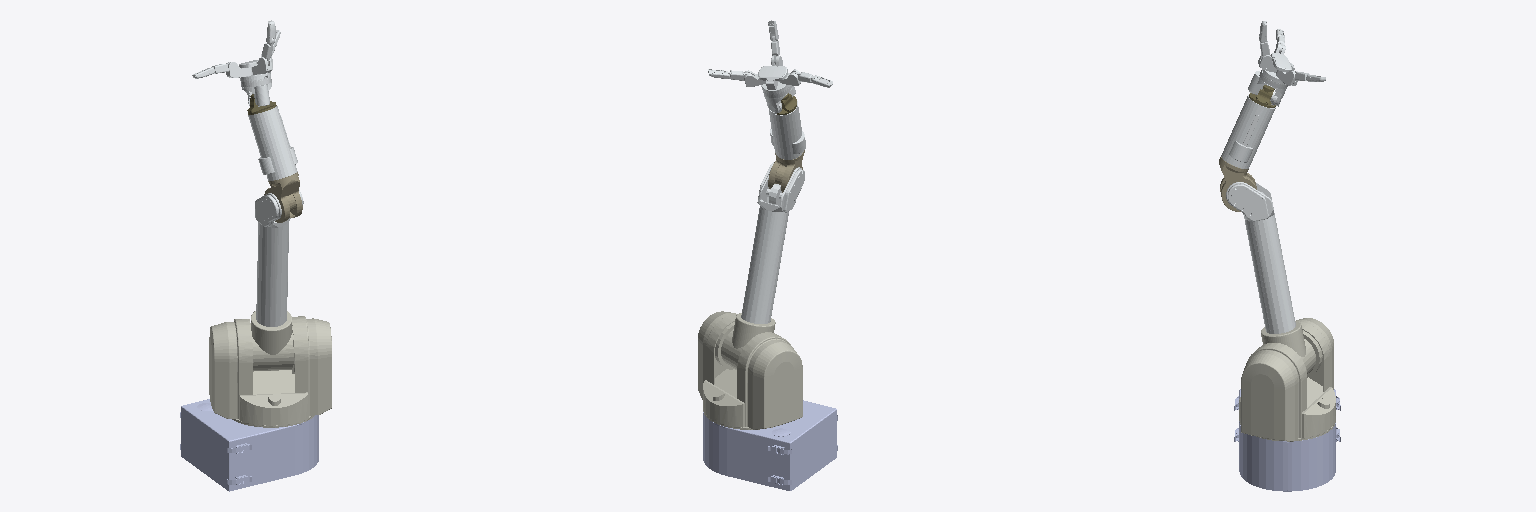
--- Facts derived from the render (not from the file) ---
Views: 3 orthographic renders of the robot side by side, from view 1: azimuth 30°, elevation 25°; view 2: azimuth 150°, elevation 25°; view 3: azimuth 270°, elevation 25°.
Robot: wam16 — 19 links, 18 joints (16 revolute, 2 fixed); root link dummy; default pose: every joint at zero.
Visible links, largest first — view 1: l1, base, l3, l5, l2, l4, hl; view 2: l1, base, l3, l5, l2, hl, l4; view 3: l1, base, l3, l5, l2, l4, hl.
Boxes of the visible links, x1,y1,x2,y2 form: l1: (209,316,331,427); base: (180,399,318,491); l3: (255,190,303,326); l5: (248,106,297,180); l2: (251,311,293,371); l4: (264,172,302,222); hl: (239,57,272,82); l1: (698,311,802,429); base: (703,400,837,490); l3: (741,162,804,323); l5: (769,101,805,159); l2: (721,313,775,369); hl: (758,56,790,94); l4: (768,150,804,192); l1: (1239,318,1335,441); base: (1234,389,1340,491); l3: (1226,182,1295,333); l5: (1221,95,1275,168); l2: (1261,321,1315,373); l4: (1219,157,1256,211); hl: (1258,53,1294,84).
Size in the robot's own frame: 0.4555 by 0.3547 by 1.42 metres.
Meshes: 18 distinct files referenced, 18 mesh visuals loaded (18 binary STL).

URDF robot description (wam16):
<?xml version="1.0" encoding="utf-8"?>
<!-- This URDF was automatically created by SolidWorks to URDF Exporter! Originally created by Stephen Brawner ([email redacted]) 
     Commit Version: 1.6.0-4-g7f85cfe  Build Version: 1.6.7995.38578
     For more information, please see http://wiki.ros.org/sw_urdf_exporter -->
<robot
  name="wam16">
  <link
    name="base">
    <inertial>
      <origin
        xyz="-0.0052221 3.4011E-05 0.073607"
        rpy="0 0 0" />
      <mass
        value="20" />
      <inertia
        ixx="1.0"
        ixy="0.0"
        ixz="0.0"
        iyy="1.0"
        iyz="0"
        izz="1" />
    </inertial>
    <visual>
      <origin
        xyz="0 0 0"
        rpy="0 0 0" />
      <geometry>
        <mesh
          filename="package://wam16/meshes/base.STL" />
      </geometry>
      <material
        name="">
        <color
          rgba="0.79216 0.81961 0.93333 1" />
      </material>
    </visual>
    <collision>
      <origin
        xyz="0 0 0"
        rpy="0 0 0" />
      <geometry>
        <mesh
          filename="package://wam16/meshes/base.STL" />
      </geometry>
    </collision>
  </link>
  <link
    name="l1">
    <inertial>
      <origin
        xyz="2.5396E-08 -0.050252 3.0114E-09"
        rpy="0 0 0" />
      <mass
        value="5.3936" />
      <inertia
        ixx="1.0"
        ixy="0.0"
        ixz="0.0"
        iyy="1.0"
        iyz="0.0"
        izz="1.0" />
    </inertial>
    <visual>
      <origin
        xyz="0 0 0"
        rpy="0 0 0" />
      <geometry>
        <mesh
          filename="package://wam16/meshes/l1.STL" />
      </geometry>
      <material
        name="">
        <color
          rgba="0.79608 0.79608 0.75294 1" />
      </material>
    </visual>
    <collision>
      <origin
        xyz="0 0 0"
        rpy="0 0 0" />
      <geometry>
        <mesh
          filename="package://wam16/meshes/l1.STL" />
      </geometry>
    </collision>
  </link>
  <joint
    name="j1"
    type="revolute">
    <origin
      xyz="0.053536 0 0.31513"
      rpy="1.5708 0 -1.9984" />
    <limit
      lower="-3.1415"
      upper="3.1415"
      effort="10"
      velocity="1000" />
    <parent
      link="base" />
    <child
      link="l1" />
    <axis
      xyz="0 1 0" />
  </joint>
  <link
    name="l2">
    <inertial>
      <origin
        xyz="7.6483E-07 0.05047 2.3994E-06"
        rpy="0 0 0" />
      <mass
        value="2.8487" />
      <inertia
        ixx="1.0"
        ixy="0.0"
        ixz="0.0"
        iyy="0.1"
        iyz="0.0"
        izz="0.1" />
    </inertial>
    <visual>
      <origin
        xyz="0 0 0"
        rpy="0 0 0" />
      <geometry>
        <mesh
          filename="package://wam16/meshes/l2.STL" />
      </geometry>
      <material
        name="">
        <color
          rgba="0.79608 0.79608 0.75294 1" />
      </material>
    </visual>
    <collision>
      <origin
        xyz="0 0 0"
        rpy="0 0 0" />
      <geometry>
        <mesh
          filename="package://wam16/meshes/l2.STL" />
      </geometry>
    </collision>
  </link>
  <joint
    name="j2"
    type="revolute">
    <origin
      xyz="0 0.030866 0"
      rpy="0.19573 1.5708 0" />
    <limit
      lower="-1.5707"
      upper="1.5707"
      effort="10"
      velocity="1000" />
    <parent
      link="l1" />
    <child
      link="l2" />
    <axis
      xyz="1 0 0" />
  </joint>
  <link
    name="l3">
    <inertial>
      <origin
        xyz="9.0662E-06 0.44771 -0.013087"
        rpy="0 0 0" />
      <mass
        value="0.07251" />
      <inertia
        ixx="1.0"
        ixy="0.0"
        ixz="0.0"
        iyy="0.1"
        iyz="0.0"
        izz="0.1" />
    </inertial>
    <visual>
      <origin
        xyz="0 0 0"
        rpy="0 0 0" />
      <geometry>
        <mesh
          filename="package://wam16/meshes/l3.STL" />
      </geometry>
      <material
        name="">
        <color
          rgba="0.89804 0.91765 0.92941 1" />
      </material>
    </visual>
    <collision>
      <origin
        xyz="0 0 0"
        rpy="0 0 0" />
      <geometry>
        <mesh
          filename="package://wam16/meshes/l3.STL" />
      </geometry>
    </collision>
  </link>
  <joint
    name="j3"
    type="revolute">
    <origin
      xyz="0 0 0"
      rpy="3.1416 -0.50269 3.1416" />
    <limit
      lower="-3.1415"
      upper="3.1415"
      effort="10"
      velocity="1000" />
    <parent
      link="l2" />
    <child
      link="l3" />
    <axis
      xyz="0 1 0" />
  </joint>
  <link
    name="l4">
    <inertial>
      <origin
        xyz="-0.00049544 0.033113 0.039955"
        rpy="0 0 0" />
      <mass
        value="0.0625" />
      <inertia
        ixx="1.0"
        ixy="0.0"
        ixz="0.0"
        iyy="0.1"
        iyz="0.0"
        izz="0.1" />
    </inertial>
    <visual>
      <origin
        xyz="0 0 0"
        rpy="0 0 0" />
      <geometry>
        <mesh
          filename="package://wam16/meshes/l4.STL" />
      </geometry>
      <material
        name="">
        <color
          rgba="0.66667 0.63922 0.55686 1" />
      </material>
    </visual>
    <collision>
      <origin
        xyz="0 0 0"
        rpy="0 0 0" />
      <geometry>
        <mesh
          filename="package://wam16/meshes/l4.STL" />
      </geometry>
    </collision>
  </link>
  <joint
    name="j4"
    type="revolute">
    <origin
      xyz="0 0.549 -0.045"
      rpy="-0.99221 0 0" />
    <limit
      lower="-3.1415"
      upper="3.1415"
      effort="10"
      velocity="1000" />
    <parent
      link="l3" />
    <child
      link="l4" />
    <axis
      xyz="1 0 0" />
  </joint>
  <link
    name="l5">
    <inertial>
      <origin
        xyz="-0.00015626 0.098469 1.1003E-12"
        rpy="0 0 0" />
      <mass
        value="0.0275" />
      <inertia
        ixx="1.0"
        ixy="0.0"
        ixz="0.0"
        iyy="0.0"
        iyz="0.0"
        izz="0.1" />
    </inertial>
    <visual>
      <origin
        xyz="0 0 0"
        rpy="0 0 0" />
      <geometry>
        <mesh
          filename="package://wam16/meshes/l5.STL" />
      </geometry>
      <material
        name="">
        <color
          rgba="0.89804 0.91765 0.92941 1" />
      </material>
    </visual>
    <collision>
      <origin
        xyz="0 0 0"
        rpy="0 0 0" />
      <geometry>
        <mesh
          filename="package://wam16/meshes/l5.STL" />
      </geometry>
    </collision>
  </link>
  <joint
    name="j5"
    type="fixed">
    <origin
      xyz="-0.000504 0.045 0.073"
      rpy="1.5708 0 -0.075888" />
    <parent
      link="l4" />
    <child
      link="l5" />
    <axis
      xyz="0 0 0" />
  </joint>
  <link
    name="l6">
    <inertial>
      <origin
        xyz="-6.5399E-10 0.066029 -1.8112E-08"
        rpy="0 0 0" />
      <mass
        value="0.01067" />
      <inertia
        ixx="1.0"
        ixy="0.0"
        ixz="0.0"
        iyy="0.1"
        iyz="0.0"
        izz="0.1" />
    </inertial>
    <visual>
      <origin
        xyz="0 0 0"
        rpy="0 0 0" />
      <geometry>
        <mesh
          filename="package://wam16/meshes/l6.STL" />
      </geometry>
      <material
        name="">
        <color
          rgba="0.47843 0.4549 0.3451 1" />
      </material>
    </visual>
    <collision>
      <origin
        xyz="0 0 0"
        rpy="0 0 0" />
      <geometry>
        <mesh
          filename="package://wam16/meshes/l6.STL" />
      </geometry>
    </collision>
  </link>
  <joint
    name="j6"
    type="revolute">
    <origin
      xyz="0 0.15853 0"
      rpy="-3.1416 -1.4381 3.1416" />
    <limit
      lower="-3.1415"
      upper="3.1415"
      effort="10"
      velocity="1000" />
    <parent
      link="l5" />
    <child
      link="l6" />
    <axis
      xyz="0 1 0" />
  </joint>
  <link
    name="l7">
    <inertial>
      <origin
        xyz="-0.001685 0.024237 1.4442E-07"
        rpy="0 0 0" />
      <mass
        value="0.009278" />
      <inertia
        ixx="1.0"
        ixy="0.0"
        ixz="0.0"
        iyy="0.1"
        iyz="0.0"
        izz="0.1" />
    </inertial>
    <visual>
      <origin
        xyz="0 0 0"
        rpy="0 0 0" />
      <geometry>
        <mesh
          filename="package://wam16/meshes/l7.STL" />
      </geometry>
      <material
        name="">
        <color
          rgba="0.89804 0.91765 0.92941 1" />
      </material>
    </visual>
    <collision>
      <origin
        xyz="0 0 0"
        rpy="0 0 0" />
      <geometry>
        <mesh
          filename="package://wam16/meshes/l7.STL" />
      </geometry>
    </collision>
  </link>
  <joint
    name="h7"
    type="revolute">
    <origin
      xyz="0 0.074477 0"
      rpy="0.15275 0 0" />
    <limit
      lower="-3.1415"
      upper="3.1415"
      effort="10"
      velocity="1000" />
    <parent
      link="l6" />
    <child
      link="l7" />
    <axis
      xyz="1 0 0" />
  </joint>
  <link
    name="l8">
    <inertial>
      <origin
        xyz="7.7716E-16 0.071443 -4.4409E-16"
        rpy="0 0 0" />
      <mass
        value="0.002557" />
      <inertia
        ixx="1.0"
        ixy="0.0"
        ixz="0.0"
        iyy="0.1"
        iyz="0.0"
        izz="0.1" />
    </inertial>
    <visual>
      <origin
        xyz="0 0 0"
        rpy="0 0 0" />
      <geometry>
        <mesh
          filename="package://wam16/meshes/l8.STL" />
      </geometry>
      <material
        name="">
        <color
          rgba="0.83137 0.84706 0.85882 1" />
      </material>
    </visual>
    <collision>
      <origin
        xyz="0 0 0"
        rpy="0 0 0" />
      <geometry>
        <mesh
          filename="package://wam16/meshes/l8.STL" />
      </geometry>
    </collision>
  </link>
  <joint
    name="j8"
    type="revolute">
    <origin
      xyz="0.00603 -0.014156 0"
      rpy="0 -0.17166 0" />
    <limit
      lower="-3.1415"
      upper="3.1415"
      effort="10"
      velocity="1000" />
    <parent
      link="l7" />
    <child
      link="l8" />
    <axis
      xyz="0 1 0" />
  </joint>
  <link
    name="hl">
    <inertial>
      <origin
        xyz="-2.5543E-05 0.0036866 -0.097192"
        rpy="0 0 0" />
      <mass
        value="0.001" />
      <inertia
        ixx="1.0"
        ixy="0.0"
        ixz="0.0"
        iyy="0.1"
        iyz="0.0"
        izz="0.1" />
    </inertial>
    <visual>
      <origin
        xyz="0 0 0"
        rpy="0 0 0" />
      <geometry>
        <mesh
          filename="package://wam16/meshes/hl.STL" />
      </geometry>
      <material
        name="">
        <color
          rgba="0.89804 0.91765 0.92941 1" />
      </material>
    </visual>
    <collision>
      <origin
        xyz="0 0 0"
        rpy="0 0 0" />
      <geometry>
        <mesh
          filename="package://wam16/meshes/hl.STL" />
      </geometry>
    </collision>
  </link>
  <joint
    name="hj"
    type="revolute">
    <origin
      xyz="0 0 0"
      rpy="1.5708 -0.96236 0" />
    <limit
      lower="-3.1415"
      upper="3.1415"
      effort="10"
      velocity="1000" />
    <parent
      link="l8" />
    <child
      link="hl" />
    <axis
      xyz="0 0 1" />
  </joint>
  <link
    name="hl11">
    <inertial>
      <origin
        xyz="-0.00074339 0.00064242 -0.030974"
        rpy="0 0 0" />
      <mass
        value="0.005" />
      <inertia
        ixx="1.0"
        ixy="0.0"
        ixz="0.0"
        iyy="0.1"
        iyz="0.0"
        izz="0.1" />
    </inertial>
    <visual>
      <origin
        xyz="0 0 0"
        rpy="0 0 0" />
      <geometry>
        <mesh
          filename="package://wam16/meshes/hl11.STL" />
      </geometry>
      <material
        name="">
        <color
          rgba="0.89804 0.91765 0.92941 1" />
      </material>
    </visual>
    <collision>
      <origin
        xyz="0 0 0"
        rpy="0 0 0" />
      <geometry>
        <mesh
          filename="package://wam16/meshes/hl11.STL" />
      </geometry>
    </collision>
  </link>
  <joint
    name="hj11"
    type="revolute">
    <origin
      xyz="0 0.05 -0.12751"
      rpy="-0.5438 0 -3.1416" />
    <limit
      lower="-3.1415"
      upper="3.1415"
      effort="10"
      velocity="10" />
    <parent
      link="hl" />
    <child
      link="hl11" />
    <axis
      xyz="1 0 0" />
  </joint>
  <link
    name="hl12">
    <inertial>
      <origin
        xyz="0.0024529 -0.0016711 0.025332"
        rpy="0 0 0" />
      <mass
        value="0.005" />
      <inertia
        ixx="1.0"
        ixy="0.0"
        ixz="0.0"
        iyy="0.1"
        iyz="0.0"
        izz="0.1" />
    </inertial>
    <visual>
      <origin
        xyz="0 0 0"
        rpy="0 0 0" />
      <geometry>
        <mesh
          filename="package://wam16/meshes/hl12.STL" />
      </geometry>
      <material
        name="">
        <color
          rgba="0.89804 0.91765 0.92941 1" />
      </material>
    </visual>
    <collision>
      <origin
        xyz="0 0 0"
        rpy="0 0 0" />
      <geometry>
        <mesh
          filename="package://wam16/meshes/hl12.STL" />
      </geometry>
    </collision>
  </link>
  <joint
    name="hj12"
    type="revolute">
    <origin
      xyz="0 0 -0.07"
      rpy="2.846 0 3.1416" />
    <limit
      lower="-3.1415"
      upper="3.1415"
      effort="10"
      velocity="10" />
    <parent
      link="hl11" />
    <child
      link="hl12" />
    <axis
      xyz="1 0 0" />
  </joint>
  <link
    name="hl21">
    <inertial>
      <origin
        xyz="9.984E-05 0.063527 -0.028865"
        rpy="0 0 0" />
      <mass
        value="0.005" />
      <inertia
        ixx="1.0"
        ixy="0.0"
        ixz="0.0"
        iyy="0.1"
        iyz="0.0"
        izz="0.1" />
    </inertial>
    <visual>
      <origin
        xyz="0 0 0"
        rpy="0 0 0" />
      <geometry>
        <mesh
          filename="package://wam16/meshes/hl21.STL" />
      </geometry>
      <material
        name="">
        <color
          rgba="0.89804 0.91765 0.92941 1" />
      </material>
    </visual>
    <collision>
      <origin
        xyz="0 0 0"
        rpy="0 0 0" />
      <geometry>
        <mesh
          filename="package://wam16/meshes/hl21.STL" />
      </geometry>
    </collision>
  </link>
  <joint
    name="hj21"
    type="revolute">
    <origin
      xyz="0.025 0 -0.047204"
      rpy="-1.5708 0 1.1509" />
    <limit
      lower="-3.1415"
      upper="3.1415"
      effort="10"
      velocity="10" />
    <parent
      link="hl" />
    <child
      link="hl21" />
    <axis
      xyz="0 1 0" />
  </joint>
  <link
    name="hl22">
    <inertial>
      <origin
        xyz="-0.0012934 0.00064243 -0.030974"
        rpy="0 0 0" />
      <mass
        value="0.005" />
      <inertia
        ixx="1.0"
        ixy="0.0"
        ixz="0.0"
        iyy="0.1"
        iyz="0.0"
        izz="0.1" />
    </inertial>
    <visual>
      <origin
        xyz="0 0 0"
        rpy="0 0 0" />
      <geometry>
        <mesh
          filename="package://wam16/meshes/hl22.STL" />
      </geometry>
      <material
        name="">
        <color
          rgba="0.89804 0.91765 0.92941 1" />
      </material>
    </visual>
    <collision>
      <origin
        xyz="0 0 0"
        rpy="0 0 0" />
      <geometry>
        <mesh
          filename="package://wam16/meshes/hl22.STL" />
      </geometry>
    </collision>
  </link>
  <joint
    name="hj22"
    type="revolute">
    <origin
      xyz="0 0.080302 -0.05"
      rpy="0.49663 0 0" />
    <limit
      lower="-3.1415"
      upper="3.1415"
      effort="10"
      velocity="10" />
    <parent
      link="hl21" />
    <child
      link="hl22" />
    <axis
      xyz="1 0 0" />
  </joint>
  <link
    name="hl23">
    <inertial>
      <origin
        xyz="0.0030029 -0.0016711 0.025332"
        rpy="0 0 0" />
      <mass
        value="0.005" />
      <inertia
        ixx="1.0"
        ixy="0.0"
        ixz="0.0"
        iyy="0.1"
        iyz="0.0"
        izz="0.1" />
    </inertial>
    <visual>
      <origin
        xyz="0 0 0"
        rpy="0 0 0" />
      <geometry>
        <mesh
          filename="package://wam16/meshes/hl23.STL" />
      </geometry>
      <material
        name="">
        <color
          rgba="0.89804 0.91765 0.92941 1" />
      </material>
    </visual>
    <collision>
      <origin
        xyz="0 0 0"
        rpy="0 0 0" />
      <geometry>
        <mesh
          filename="package://wam16/meshes/hl23.STL" />
      </geometry>
    </collision>
  </link>
  <joint
    name="hj23"
    type="revolute">
    <origin
      xyz="0 0 -0.07"
      rpy="3.0676 0 3.1416" />
    <limit
      lower="-3.1415"
      upper="3.1415"
      effort="10"
      velocity="10" />
    <parent
      link="hl22" />
    <child
      link="hl23" />
    <axis
      xyz="1 0 0" />
  </joint>
  <link
    name="hl31">
    <inertial>
      <origin
        xyz="9.9837E-05 0.047496 -0.028865"
        rpy="0 0 0" />
      <mass
        value="0.005" />
      <inertia
        ixx="1.0"
        ixy="0.0"
        ixz="0.0"
        iyy="0.1"
        iyz="0.0"
        izz="0.1" />
    </inertial>
    <visual>
      <origin
        xyz="0 0 0"
        rpy="0 0 0" />
      <geometry>
        <mesh
          filename="package://wam16/meshes/hl31.STL" />
      </geometry>
      <material
        name="">
        <color
          rgba="0.89804 0.91765 0.92941 1" />
      </material>
    </visual>
    <collision>
      <origin
        xyz="0 0 0"
        rpy="0 0 0" />
      <geometry>
        <mesh
          filename="package://wam16/meshes/hl31.STL" />
      </geometry>
    </collision>
  </link>
  <joint
    name="hj31"
    type="revolute">
    <origin
      xyz="-0.025 0 -0.063234"
      rpy="-1.5708 0 -1.2991" />
    <limit
      lower="-3.1415"
      upper="3.1415"
      effort="10"
      velocity="10" />
    <parent
      link="hl" />
    <child
      link="hl31" />
    <axis
      xyz="0 1 0" />
  </joint>
  <link
    name="hl32">
    <inertial>
      <origin
        xyz="-0.0012934 0.00064242 -0.030974"
        rpy="0 0 0" />
      <mass
        value="0.005" />
      <inertia
        ixx="1.0"
        ixy="0.0"
        ixz="0.0"
        iyy="0.1"
        iyz="0.0"
        izz="0.1" />
    </inertial>
    <visual>
      <origin
        xyz="0 0 0"
        rpy="0 0 0" />
      <geometry>
        <mesh
          filename="package://wam16/meshes/hl32.STL" />
      </geometry>
      <material
        name="">
        <color
          rgba="0.89804 0.91765 0.92941 1" />
      </material>
    </visual>
    <collision>
      <origin
        xyz="0 0 0"
        rpy="0 0 0" />
      <geometry>
        <mesh
          filename="package://wam16/meshes/hl32.STL" />
      </geometry>
    </collision>
  </link>
  <joint
    name="hj32"
    type="revolute">
    <origin
      xyz="0 0.064271 -0.05"
      rpy="0.0052796 0 0" />
    <limit
      lower="-3.1415"
      upper="3.1415"
      effort="10"
      velocity="10" />
    <parent
      link="hl31" />
    <child
      link="hl32" />
    <axis
      xyz="1 0 0" />
  </joint>
  <link
    name="hl33">
    <inertial>
      <origin
        xyz="0.0030029 -0.0016711 0.025332"
        rpy="0 0 0" />
      <mass
        value="0.005" />
      <inertia
        ixx="1.0"
        ixy="0.0"
        ixz="0.0"
        iyy="0.1"
        iyz="0.0"
        izz="0.1" />
    </inertial>
    <visual>
      <origin
        xyz="0 0 0"
        rpy="0 0 0" />
      <geometry>
        <mesh
          filename="package://wam16/meshes/hl33.STL" />
      </geometry>
      <material
        name="">
        <color
          rgba="0.89804 0.91765 0.92941 1" />
      </material>
    </visual>
    <collision>
      <origin
        xyz="0 0 0"
        rpy="0 0 0" />
      <geometry>
        <mesh
          filename="package://wam16/meshes/hl33.STL" />
      </geometry>
    </collision>
  </link>
  <joint
    name="hj33"
    type="revolute">
    <origin
      xyz="0 0 -0.07"
      rpy="-3.0446 0 -3.1416" />
    <limit
      lower="-3.1415"
      upper="3.1415"
      effort="10"
      velocity="10" />
    <parent
      link="hl32" />
    <child
      link="hl33" />
    <axis
      xyz="1 0 0" />
  </joint>
  <link
    name="dummy">
  </link>
  <joint
    name="dummy_joint"
    type="fixed">
    <parent
    link="dummy" />
    <child
    link="base" />
  </joint>
  <transmission name="trans1">
    <type>transmission_interface/SimpleTransmission</type>
    <joint name="j1">
      <hardwareInterface>hardware_interface/VelocityJointInterface</hardwareInterface>
    </joint>
    <actuator name="joint1">
      <mechanicalReduction>1</mechanicalReduction>
      <hardwareInterface>hardware_interface/VelocityJointInterface</hardwareInterface>
    </actuator>
  </transmission>
  <transmission name="trans2">
    <type>transmission_interface/SimpleTransmission</type>
    <joint name="j2">
      <hardwareInterface>hardware_interface/VelocityJointInterface</hardwareInterface>
    </joint>
    <actuator name="joint2">
      <mechanicalReduction>1</mechanicalReduction>
      <hardwareInterface>hardware_interface/VelocityJointInterface</hardwareInterface>
    </actuator>
  </transmission>
  <transmission name="trans3">
    <type>transmission_interface/SimpleTransmission</type>
    <joint name="j3">
      <hardwareInterface>hardware_interface/VelocityJointInterface</hardwareInterface>
    </joint>
    <actuator name="joint3">
      <mechanicalReduction>1</mechanicalReduction>
      <hardwareInterface>hardware_interface/VelocityJointInterface</hardwareInterface>
    </actuator>
  </transmission>
  <transmission name="trans4">
    <type>transmission_interface/SimpleTransmission</type>
    <joint name="j4">
      <hardwareInterface>hardware_interface/VelocityJointInterface</hardwareInterface>
    </joint>
    <actuator name="joint4">
      <mechanicalReduction>1</mechanicalReduction>
      <hardwareInterface>hardware_interface/VelocityJointInterface</hardwareInterface>
    </actuator>
  </transmission>
  <transmission name="trans6">
    <type>transmission_interface/SimpleTransmission</type>
    <joint name="j6">
      <hardwareInterface>hardware_interface/VelocityJointInterface</hardwareInterface>
    </joint>
    <actuator name="joint6">
      <mechanicalReduction>1</mechanicalReduction>
      <hardwareInterface>hardware_interface/VelocityJointInterface</hardwareInterface>
    </actuator>
  </transmission>
  <transmission name="trans7">
    <type>transmission_interface/SimpleTransmission</type>
    <joint name="h7">
      <hardwareInterface>hardware_interface/VelocityJointInterface</hardwareInterface>
    </joint>
    <actuator name="joint7">
      <mechanicalReduction>1</mechanicalReduction>
      <hardwareInterface>hardware_interface/VelocityJointInterface</hardwareInterface>
    </actuator>
  </transmission>
  <transmission name="trans8">
    <type>transmission_interface/SimpleTransmission</type>
    <joint name="j8">
      <hardwareInterface>hardware_interface/VelocityJointInterface</hardwareInterface>
    </joint>
    <actuator name="joint8">
      <mechanicalReduction>1</mechanicalReduction>
      <hardwareInterface>hardware_interface/VelocityJointInterface</hardwareInterface>
    </actuator>
  </transmission>
  <transmission name="transhj">
    <type>transmission_interface/SimpleTransmission</type>
    <joint name="hj">
      <hardwareInterface>hardware_interface/VelocityJointInterface</hardwareInterface>
    </joint>
    <actuator name="handjoint">
      <mechanicalReduction>1</mechanicalReduction>
      <hardwareInterface>hardware_interface/VelocityJointInterface</hardwareInterface>
    </actuator>
  </transmission>
  <transmission name="transhj11">
    <type>transmission_interface/SimpleTransmission</type>
    <joint name="hj11">
      <hardwareInterface>hardware_interface/VelocityJointInterface</hardwareInterface>
    </joint>
    <actuator name="handjoint11">
      <mechanicalReduction>1</mechanicalReduction>
      <hardwareInterface>hardware_interface/VelocityJointInterface</hardwareInterface>
    </actuator>
  </transmission>
  <transmission name="transhj12">
    <type>transmission_interface/SimpleTransmission</type>
    <joint name="hj12">
      <hardwareInterface>hardware_interface/VelocityJointInterface</hardwareInterface>
    </joint>
    <actuator name="handjoint12">
      <mechanicalReduction>1</mechanicalReduction>
      <hardwareInterface>hardware_interface/VelocityJointInterface</hardwareInterface>
    </actuator>
  </transmission>
  <transmission name="transhj21">
    <type>transmission_interface/SimpleTransmission</type>
    <joint name="hj21">
      <hardwareInterface>hardware_interface/VelocityJointInterface</hardwareInterface>
    </joint>
    <actuator name="handjoint21">
      <mechanicalReduction>1</mechanicalReduction>
      <hardwareInterface>hardware_interface/VelocityJointInterface</hardwareInterface>
    </actuator>
  </transmission>
  <transmission name="transhj22">
    <type>transmission_interface/SimpleTransmission</type>
    <joint name="hj22">
      <hardwareInterface>hardware_interface/VelocityJointInterface</hardwareInterface>
    </joint>
    <actuator name="handjoint22">
      <mechanicalReduction>1</mechanicalReduction>
      <hardwareInterface>hardware_interface/VelocityJointInterface</hardwareInterface>
    </actuator>
  </transmission>
  <transmission name="transhj23">
    <type>transmission_interface/SimpleTransmission</type>
    <joint name="hj23">
      <hardwareInterface>hardware_interface/VelocityJointInterface</hardwareInterface>
    </joint>
    <actuator name="handjoint23">
      <mechanicalReduction>1</mechanicalReduction>
      <hardwareInterface>hardware_interface/VelocityJointInterface</hardwareInterface>
    </actuator>
  </transmission>
  <transmission name="transhj31">
    <type>transmission_interface/SimpleTransmission</type>
    <joint name="hj31">
      <hardwareInterface>hardware_interface/VelocityJointInterface</hardwareInterface>
    </joint>
    <actuator name="handjoint31">
      <mechanicalReduction>1</mechanicalReduction>
      <hardwareInterface>hardware_interface/VelocityJointInterface</hardwareInterface>
    </actuator>
  </transmission>
  <transmission name="transhj32">
    <type>transmission_interface/SimpleTransmission</type>
    <joint name="hj32">
      <hardwareInterface>hardware_interface/VelocityJointInterface</hardwareInterface>
    </joint>
    <actuator name="handjoint32">
      <mechanicalReduction>1</mechanicalReduction>
      <hardwareInterface>hardware_interface/VelocityJointInterface</hardwareInterface>
    </actuator>
  </transmission>
  <transmission name="transhj33">
    <type>transmission_interface/SimpleTransmission</type>
    <joint name="hj33">
      <hardwareInterface>hardware_interface/VelocityJointInterface</hardwareInterface>
    </joint>
    <actuator name="handjoint33">
      <mechanicalReduction>1</mechanicalReduction>
      <hardwareInterface>hardware_interface/VelocityJointInterface</hardwareInterface>
    </actuator>
  </transmission>
  <gazebo>
		<plugin name="gazebo_ros_control" filename="libgazebo_ros_control.so">
			<robotNamespace>wam16</robotNamespace>
			<robotSimType>gazebo_ros_control/DefaultRobotHWSim</robotSimType>
			<legacyModeNS>true</legacyModeNS>
		</plugin>
	</gazebo>
</robot>
